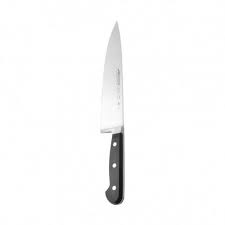kuchillu: (99, 18, 131, 207)
